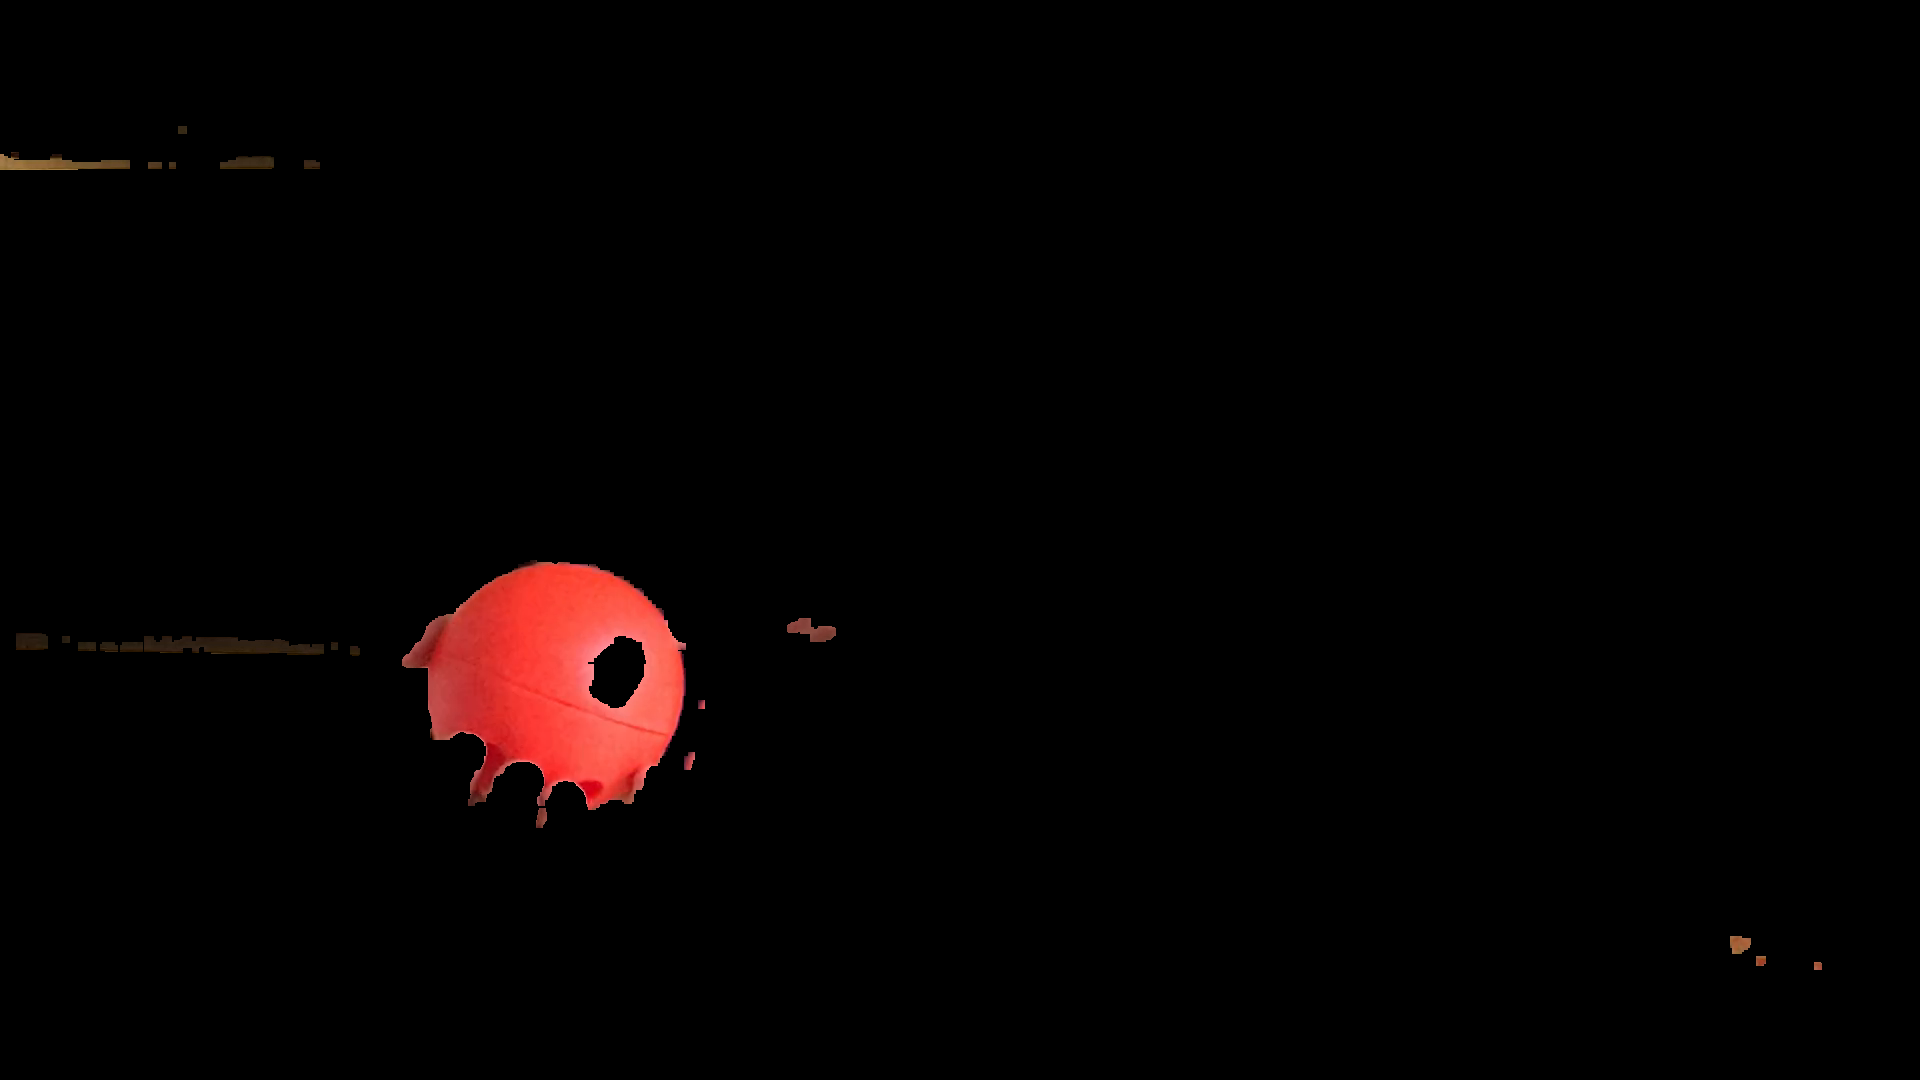Ball: (427, 562, 679, 811)
